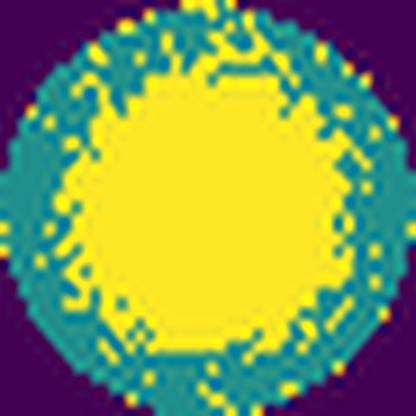Center: (61, 66, 350, 354)
